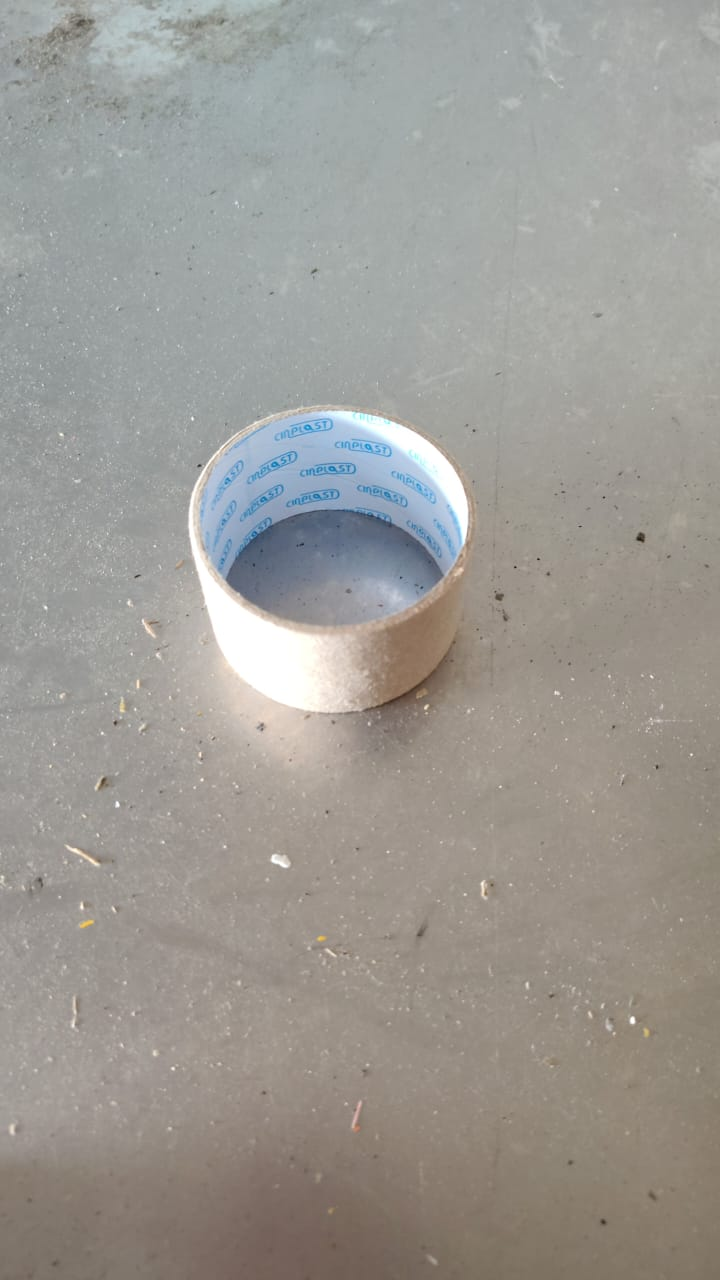Carton: (186, 402, 477, 714)
